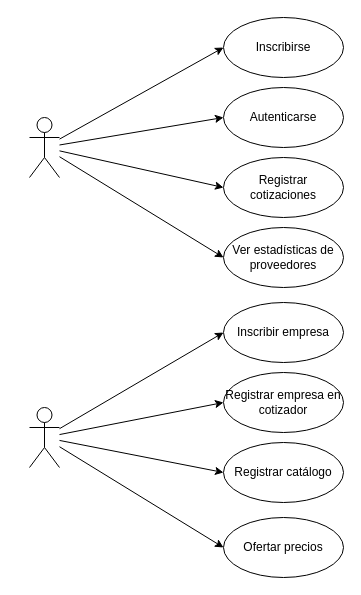
The diagram is 361 pixels wide and 595 high, and some of its shapes have lost their labels. Each missing label, with the centre of its shape:
"Cliente" belongs at point 44,147.
"Proveedor" belongs at point 44,437.
